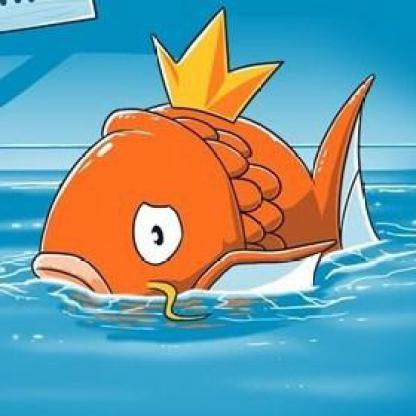Magikarp: (1, 33, 336, 416)
